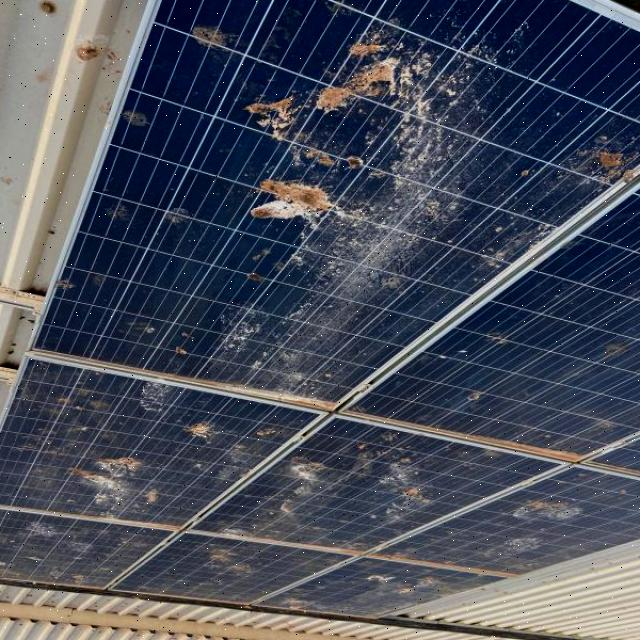Anomaly Solar Panel: (33, 0, 639, 405), (349, 187, 640, 457), (193, 397, 562, 598), (0, 354, 316, 565), (116, 527, 350, 621), (0, 511, 177, 601)
Surface Contaminant: (175, 0, 587, 448), (237, 57, 411, 179), (0, 342, 125, 475), (0, 514, 152, 598), (248, 168, 378, 261), (337, 424, 438, 536), (58, 435, 168, 537), (460, 200, 562, 286), (199, 407, 295, 494), (325, 560, 466, 619), (512, 136, 640, 195), (232, 463, 323, 542), (197, 547, 260, 602), (507, 491, 583, 531), (471, 529, 542, 571), (107, 307, 164, 359), (181, 13, 229, 63), (337, 30, 397, 67), (95, 196, 137, 236), (134, 384, 177, 419), (175, 416, 215, 449), (117, 106, 151, 136), (578, 414, 620, 437), (479, 329, 513, 355), (279, 592, 319, 611), (163, 206, 194, 228), (71, 455, 136, 465), (596, 341, 623, 363), (496, 0, 529, 16)
